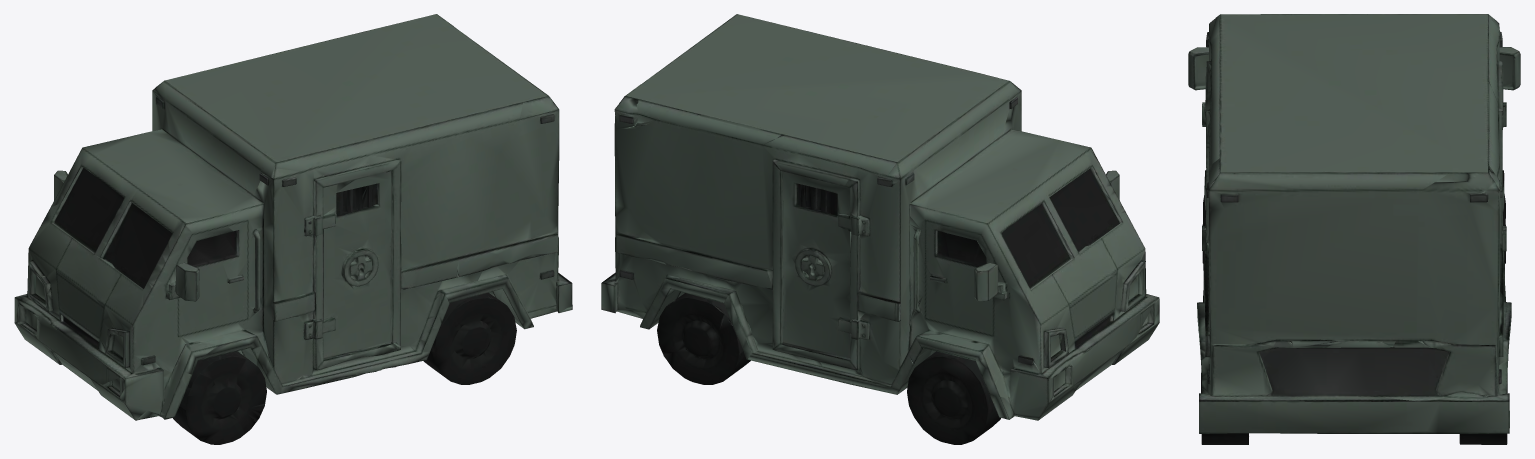
The model's file is truck.glb.
3 views of the same model, side by side, from view 1: azimuth 30°, elevation 25°; view 2: azimuth 150°, elevation 25°; view 3: azimuth 270°, elevation 25° (orthographic). The views are drawn at different scales.
Bounding box in the file's own units: 1.9 × 1.09 × 1.05.
1 material, 1 textured.
